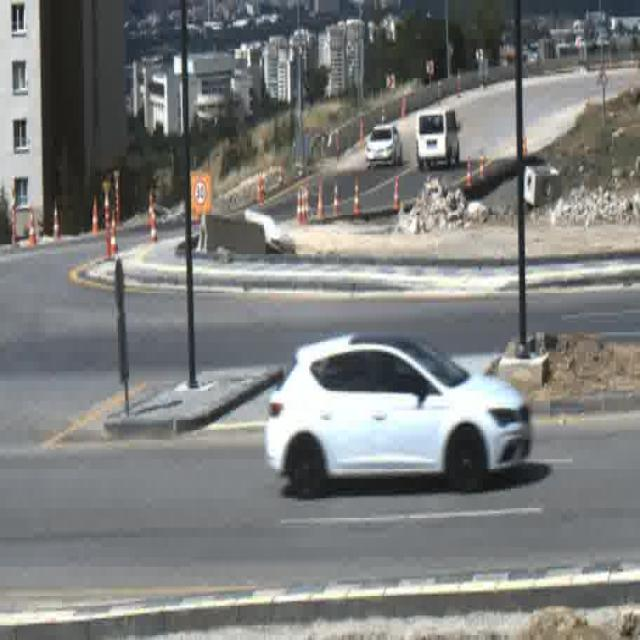Car: (262, 332, 532, 484), (416, 109, 459, 171), (366, 125, 402, 171)
